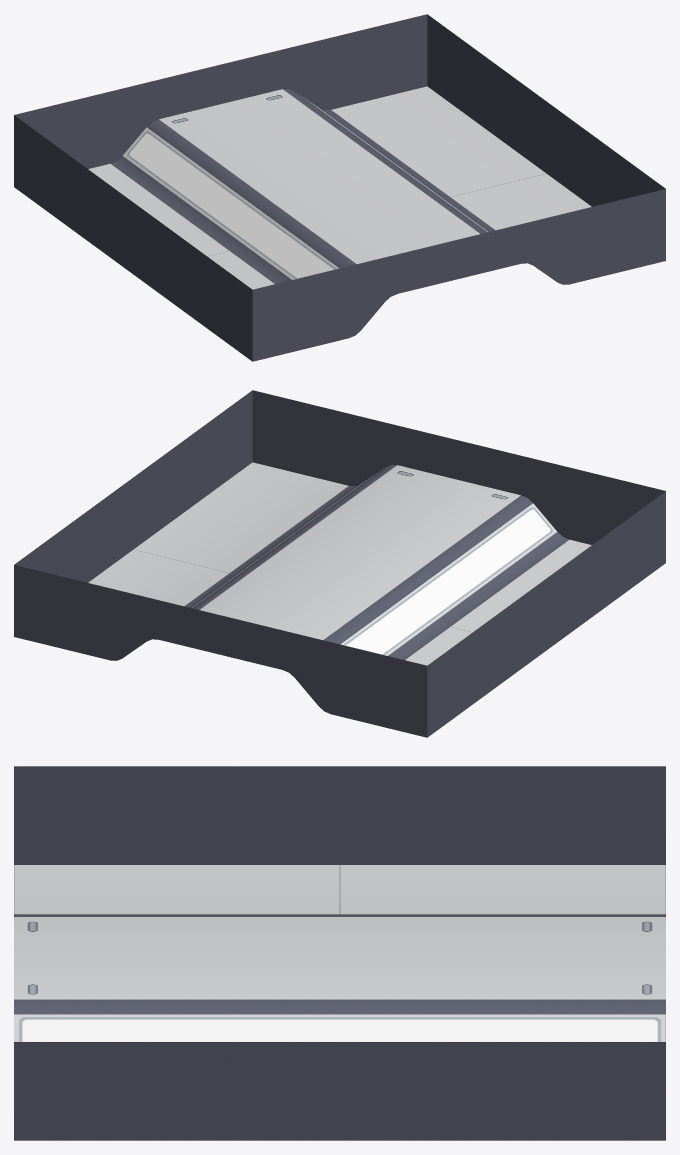
File: Roof_01.FBX
3 renders of one model, top to bottom at view 1: azimuth 30°, elevation 25°; view 2: azimuth 150°, elevation 25°; view 3: azimuth 270°, elevation 25°, orthographic. The views are drawn at different scales.
Parts seen in each view (by area): view 1: Roof_01; view 2: Roof_01; view 3: Roof_01.
Part boxes in pixels (x1,y1,x2,y2): Roof_01: (14,14,665,361); Roof_01: (14,390,665,737); Roof_01: (14,766,665,1140).
Size of the model in its own units: 6 by 1 by 6.
Materials: 2 (2 with a texture image).
